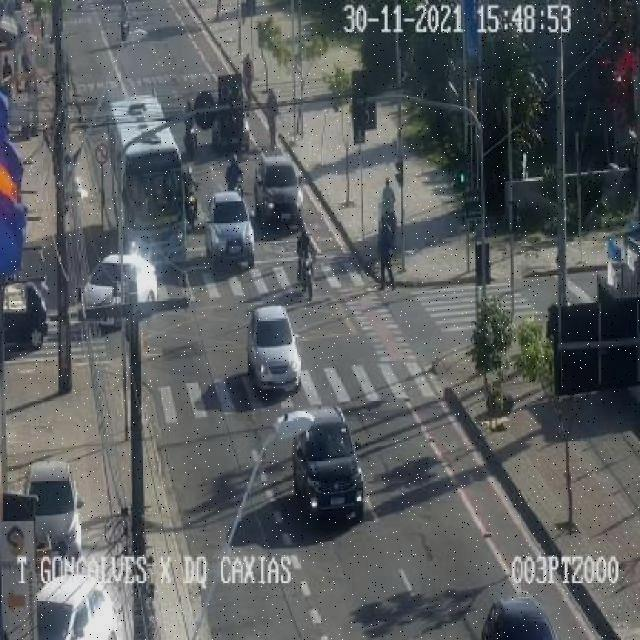Bus: (118, 93, 182, 263)
Car: (296, 399, 364, 524), (18, 572, 116, 640), (83, 244, 159, 321), (29, 456, 77, 562), (247, 305, 301, 396), (0, 278, 48, 359), (255, 154, 305, 230), (210, 190, 256, 268), (481, 593, 552, 640)
Cycle: (182, 167, 204, 224), (298, 232, 315, 299), (180, 98, 198, 158), (223, 152, 246, 198)
